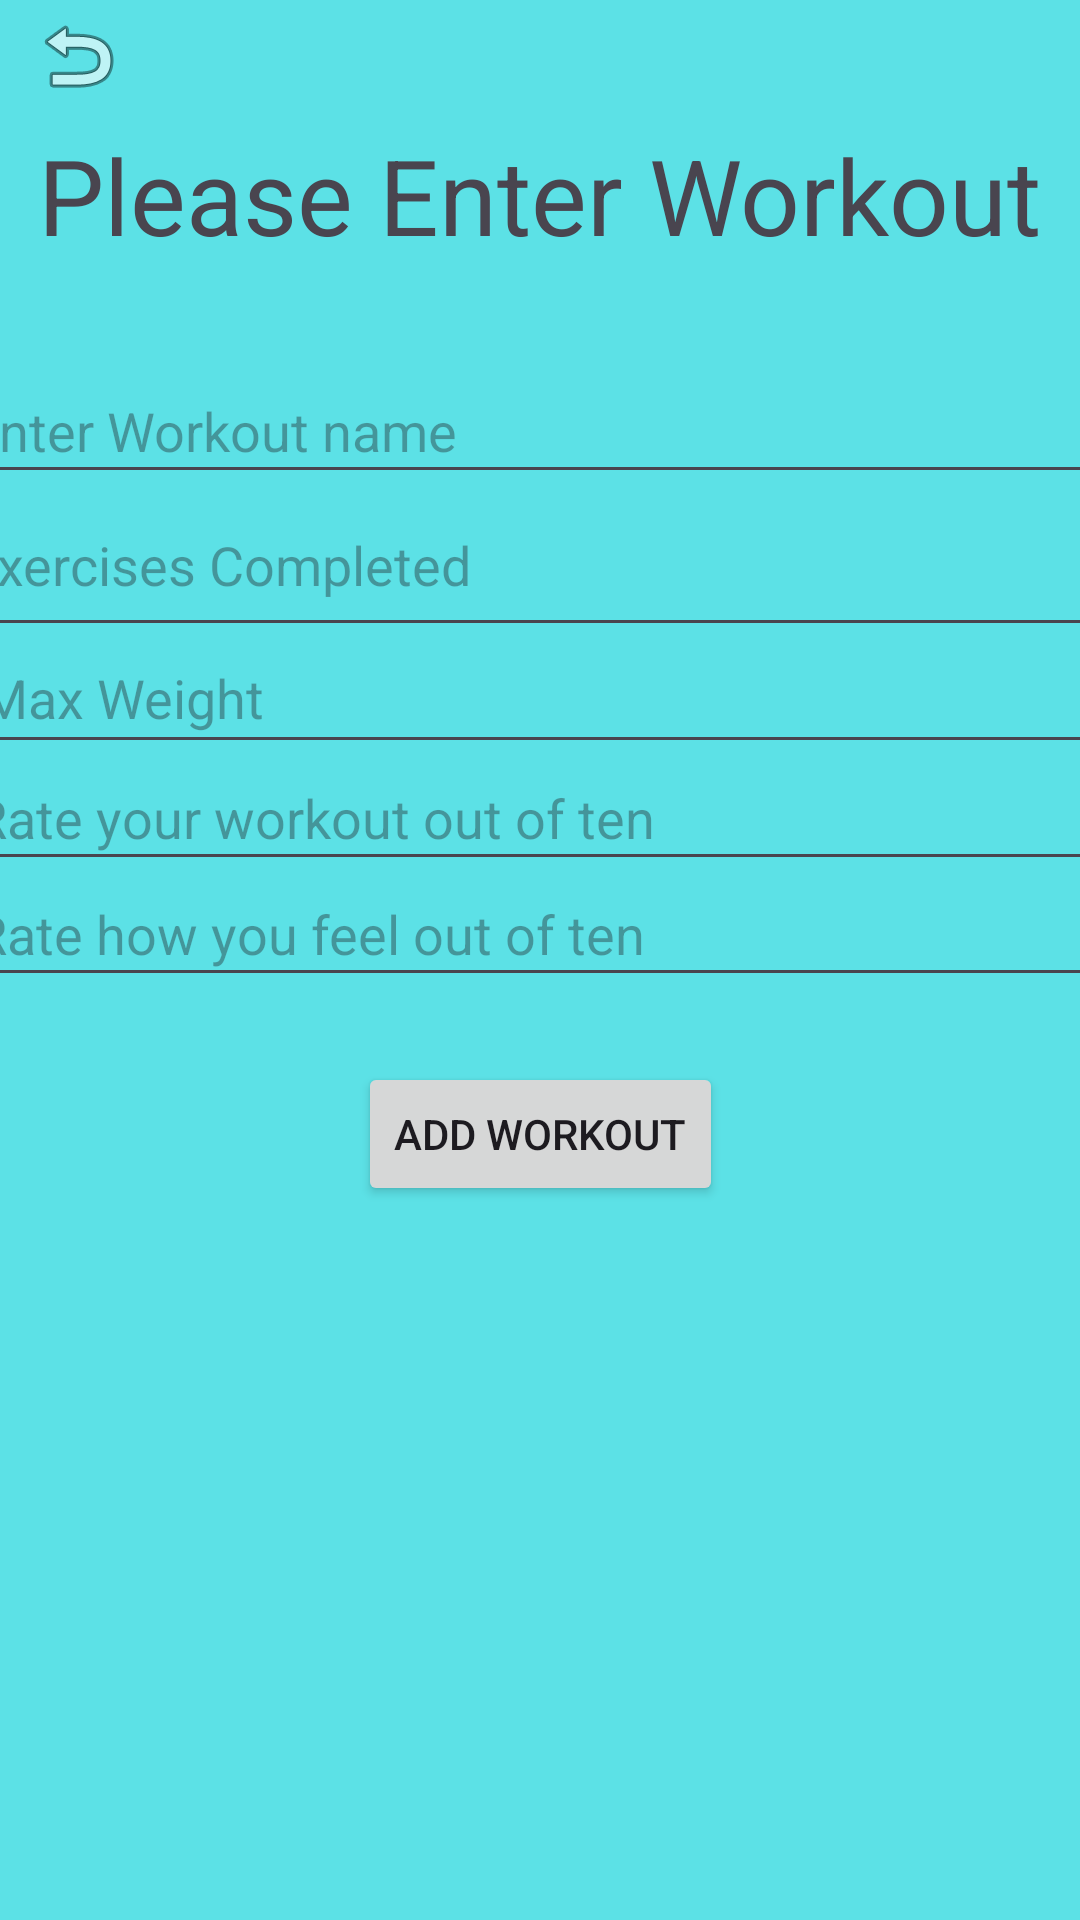

Screen size 1080 × 1920. Icon name, then its center in pixels as point (x, y):
revert: point (79, 56)
